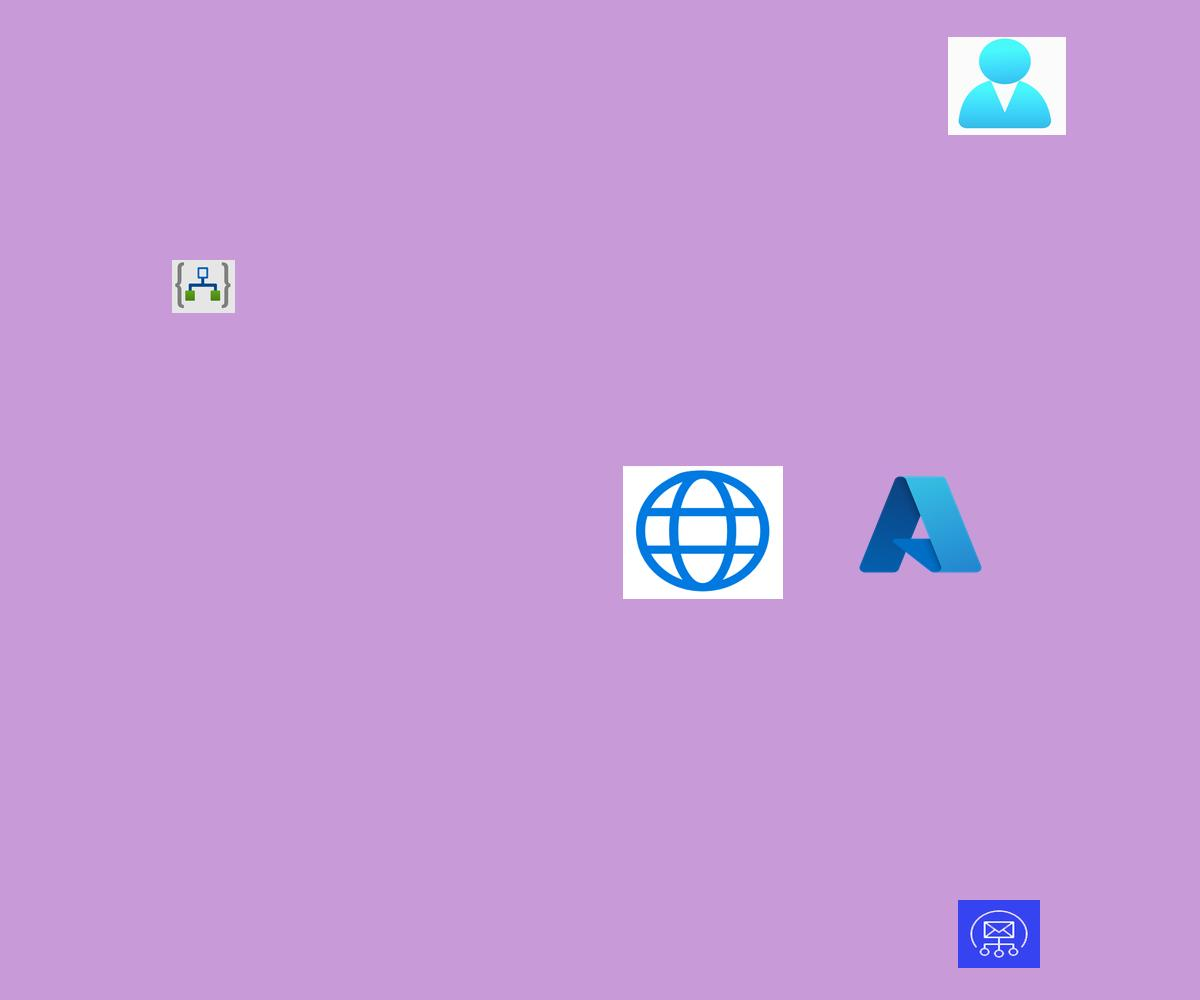AWS-Simple-Email-Service: (958, 900, 1040, 968)
Azure_http: (623, 466, 783, 599)
Azure_integration-204-Logic-Apps: (172, 260, 235, 313)
Azure_services: (854, 469, 987, 580)
Azure_users: (948, 37, 1066, 135)
